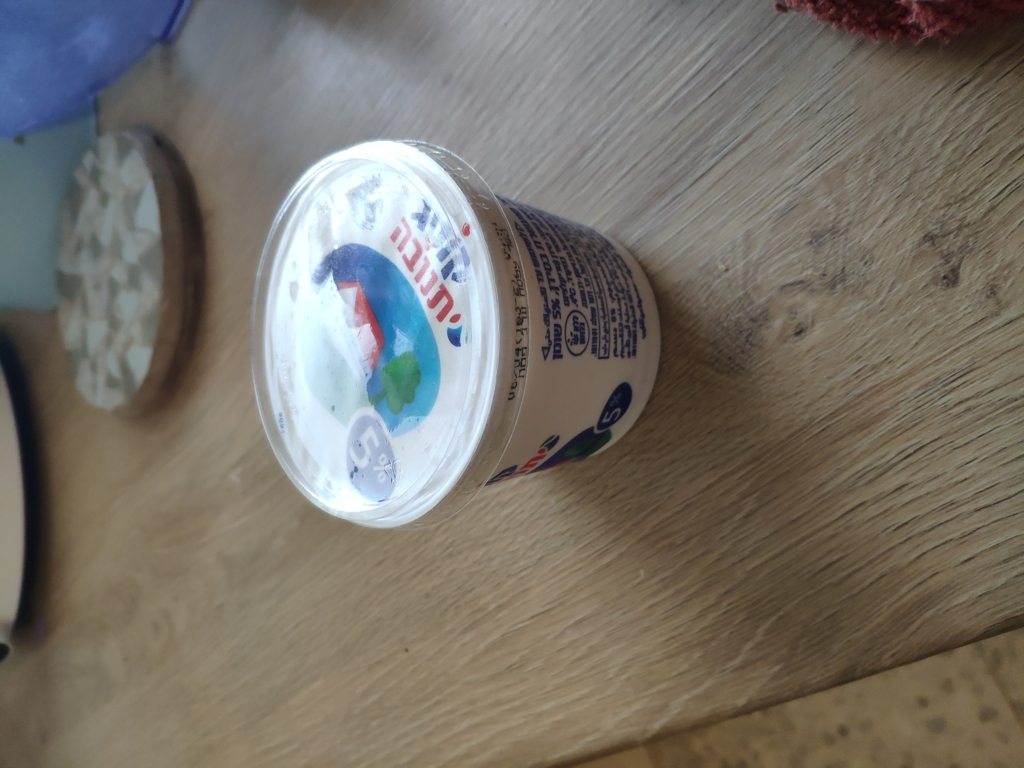Cotage: (238, 203, 722, 538)
